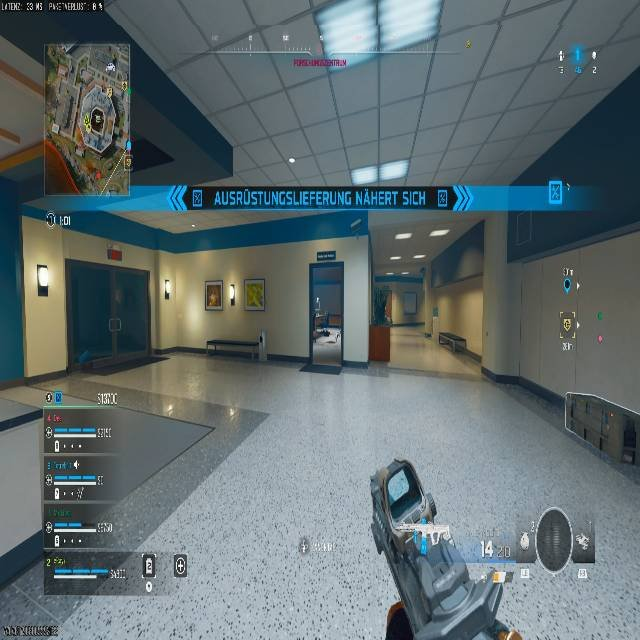player: (254, 329, 268, 362)
